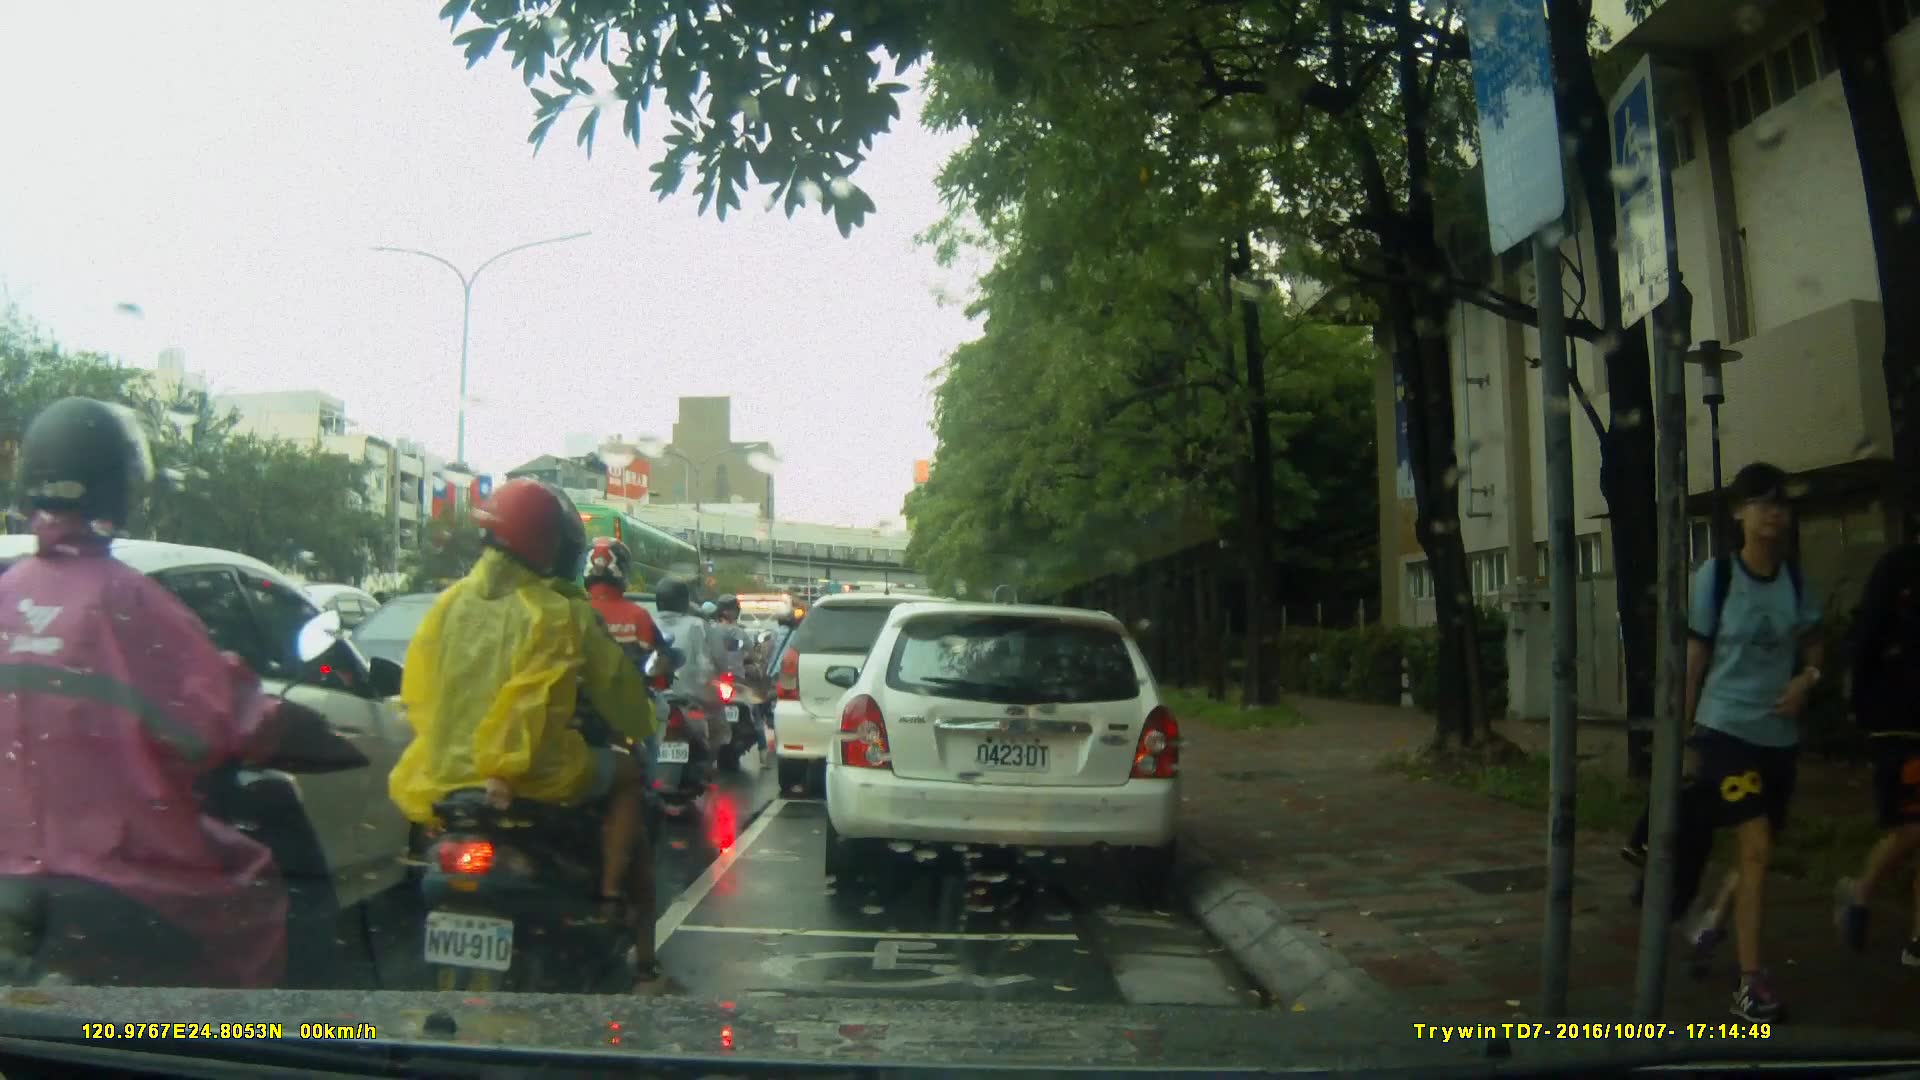pedestrian: (1646, 450, 1849, 1008), (1823, 498, 1920, 967)
rider: (1, 404, 359, 1063), (396, 480, 652, 1015), (547, 537, 684, 855), (631, 577, 734, 805), (702, 588, 767, 765), (760, 607, 815, 734)
vehicle: (2, 533, 462, 988), (831, 592, 1196, 897), (320, 590, 629, 776), (770, 590, 999, 804), (495, 499, 708, 636)
